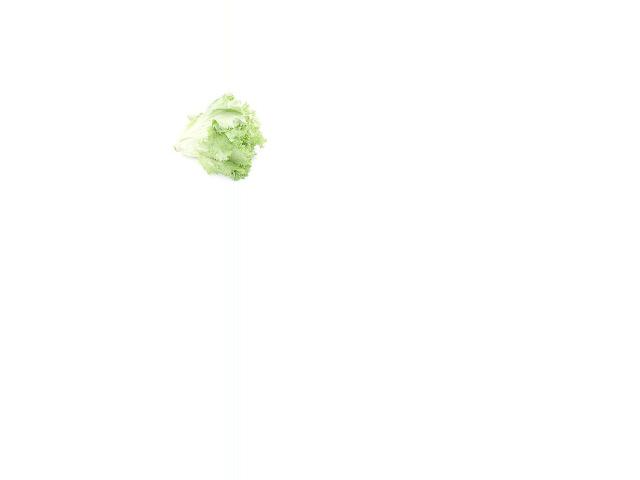lettuce: (172, 90, 264, 182)
